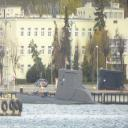submarine: (17, 71, 101, 107)
